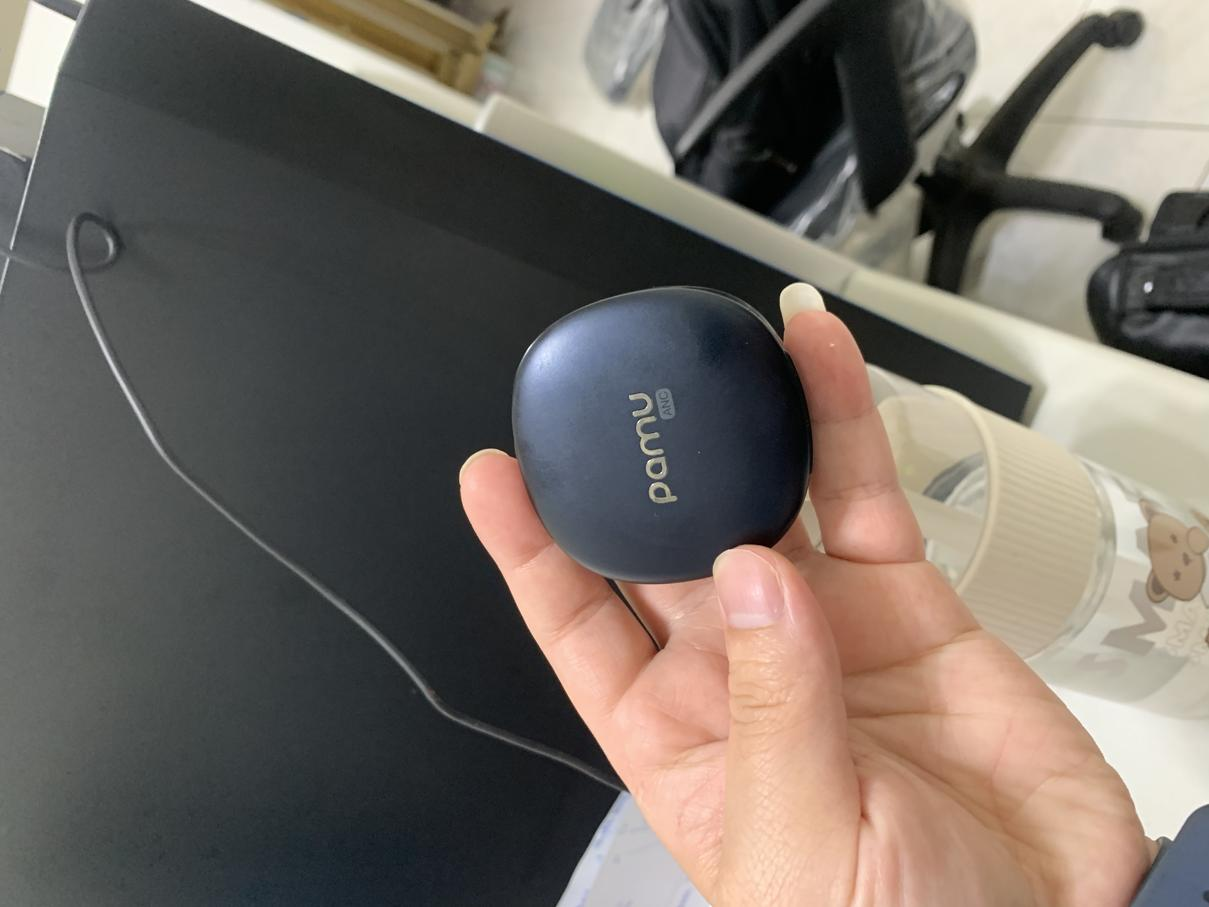pami: (495, 285, 821, 585)
